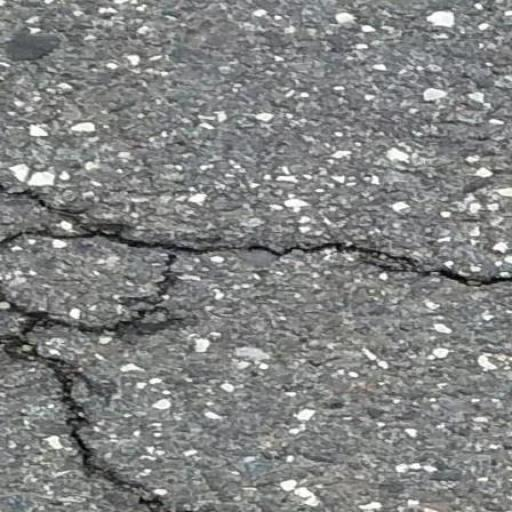spalling: (0, 172, 510, 297), (2, 324, 173, 509), (0, 222, 187, 338)
